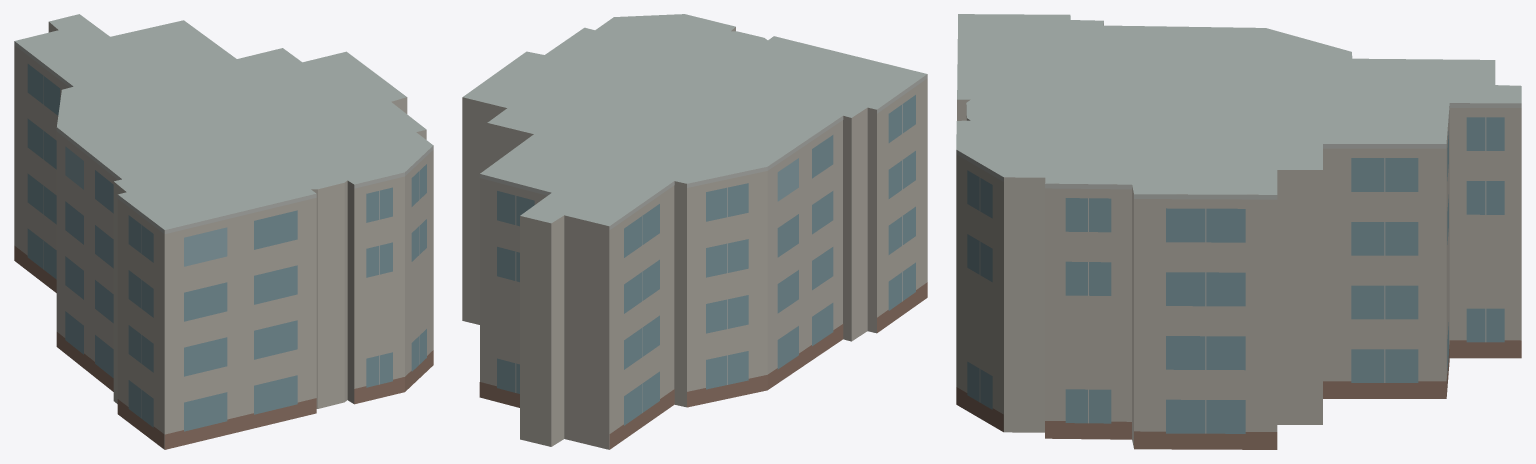
File: survey-upis-32461489.glb
3 views of the same model, side by side, from view 1: azimuth 30°, elevation 25°; view 2: azimuth 150°, elevation 25°; view 3: azimuth 270°, elevation 25° (orthographic). The views are drawn at different scales.
Parts seen in each view (by area): view 1: survey-upis-32461489.tmp; view 2: survey-upis-32461489.tmp; view 3: survey-upis-32461489.tmp.
Boxes of the visible parts, bbox=[...] form: survey-upis-32461489.tmp: bbox=[14, 14, 433, 449]; survey-upis-32461489.tmp: bbox=[462, 14, 927, 449]; survey-upis-32461489.tmp: bbox=[956, 14, 1521, 449].
Bounding box in the file's own units: 19.86 × 13.05 × 26.23.
